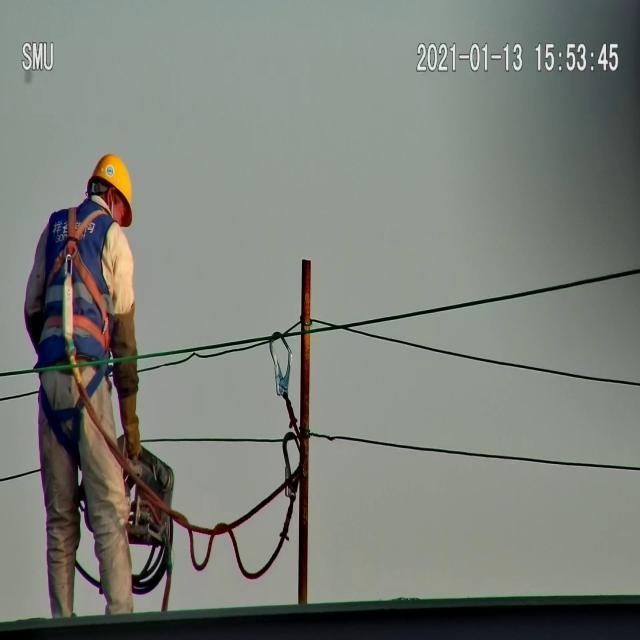Arnes_seguridad: (38, 198, 117, 383)
